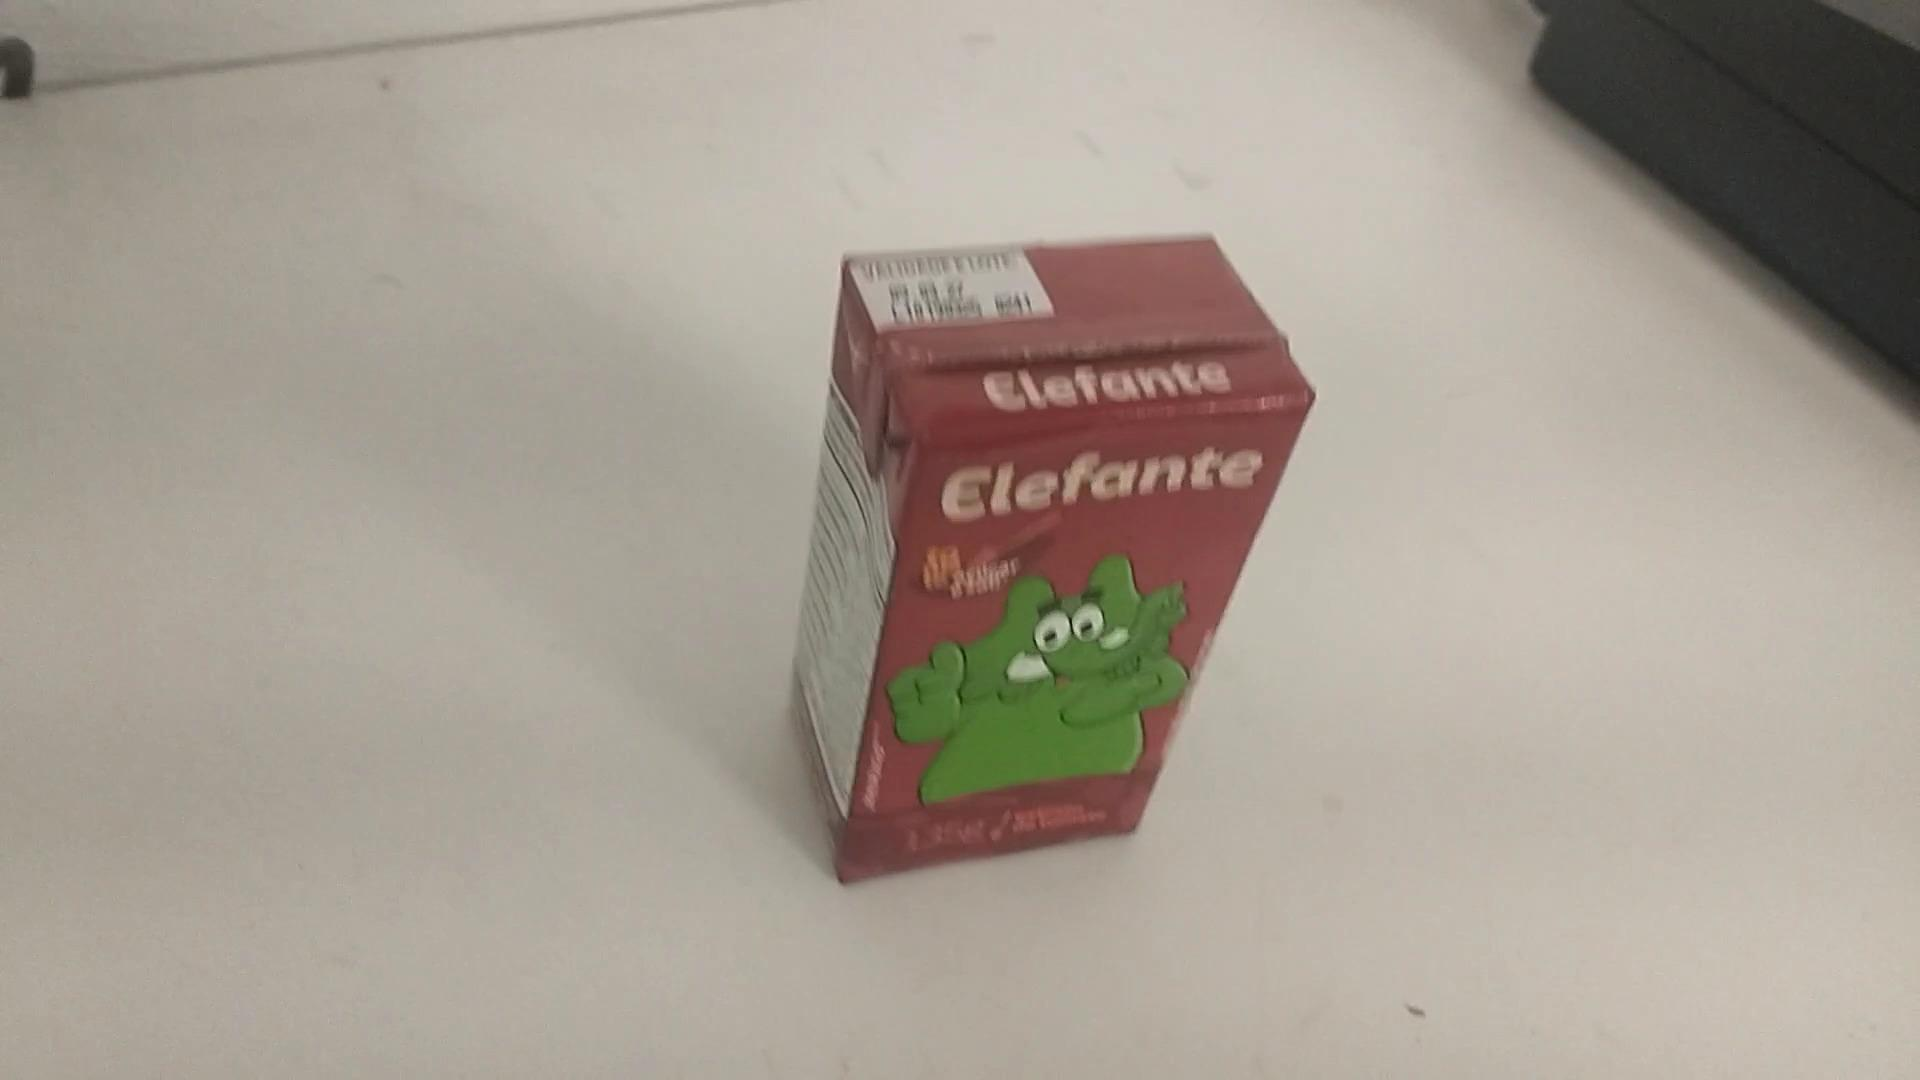tomate: (781, 216, 1320, 887)
